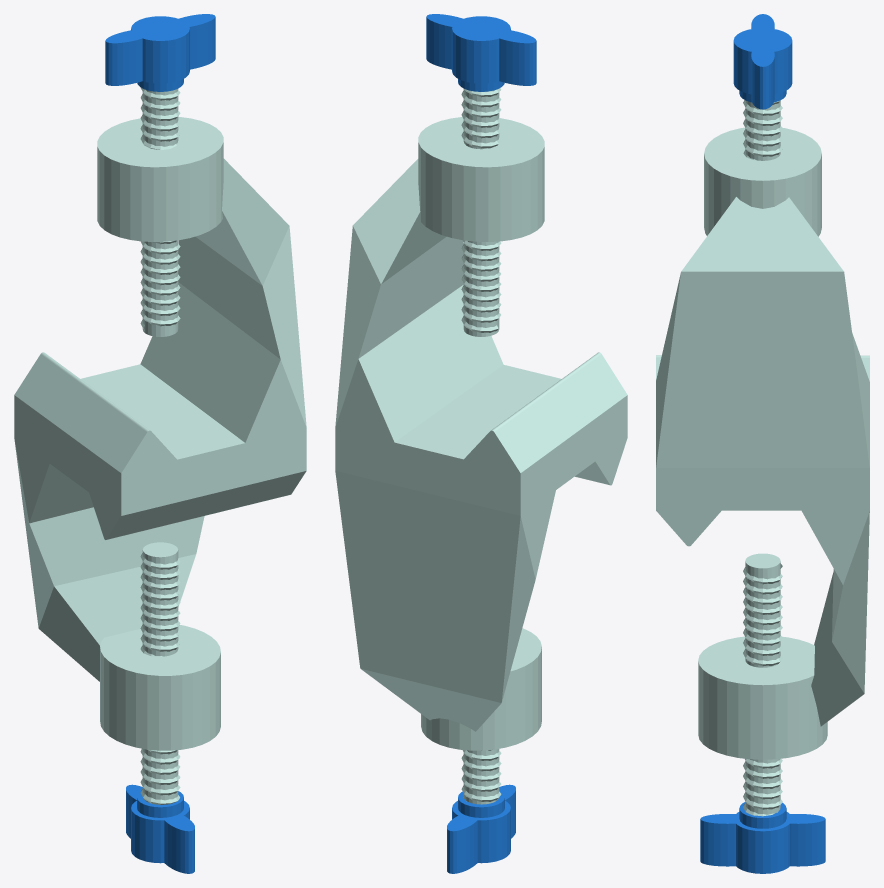
File: boss.fbx
The picture shows the model from 3 angles, left to right: view 1: azimuth 30°, elevation 25°; view 2: azimuth 150°, elevation 25°; view 3: azimuth 270°, elevation 25°; orthographic projection.
Parts seen in each view (by area): view 1: Cube, clamp_spinner, clamp_spinner.001; view 2: Cube, clamp_spinner, clamp_spinner.001; view 3: Cube, clamp_spinner.001, clamp_spinner.
Part boxes in pixels (<box>): Cube: <box>14,116,306,750</box>; clamp_spinner: <box>105,14,215,336</box>; clamp_spinner.001: <box>126,542,194,873</box>; Cube: <box>335,117,627,750</box>; clamp_spinner: <box>426,14,536,336</box>; clamp_spinner.001: <box>447,749,515,873</box>; Cube: <box>656,127,869,759</box>; clamp_spinner.001: <box>700,553,825,873</box>; clamp_spinner: <box>733,14,792,160</box>.
Bounding box in the file's own units: 182 × 770 × 182.
